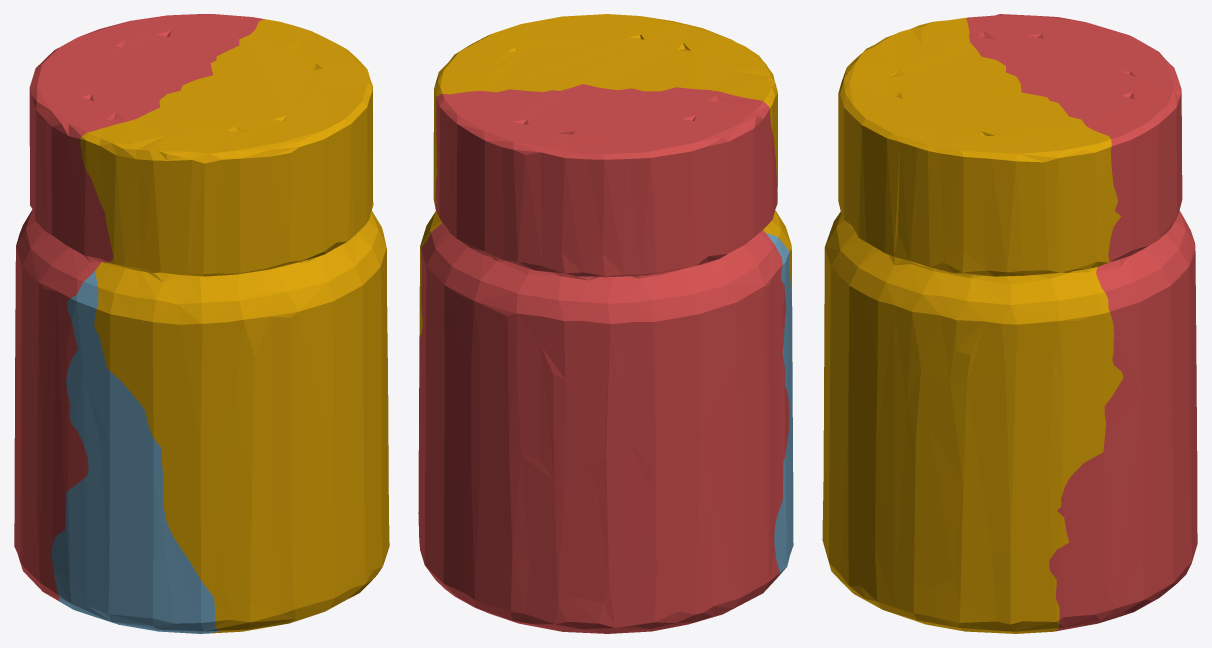
The model's file is mode_3_4pcs.glb.
3 renders of one model, left to right at view 1: azimuth 30°, elevation 25°; view 2: azimuth 150°, elevation 25°; view 3: azimuth 270°, elevation 25°, orthographic.
Visible parts, largest first — view 1: piece_0.obj, piece_1.obj, piece_2.obj; view 2: piece_1.obj, piece_0.obj, piece_2.obj; view 3: piece_0.obj, piece_1.obj.
Boxes of the visible parts, x1,y1,x2,y2 form: piece_0.obj: (80, 19, 389, 633); piece_1.obj: (14, 14, 263, 601); piece_2.obj: (51, 271, 218, 633); piece_1.obj: (418, 84, 789, 633); piece_0.obj: (419, 14, 791, 371); piece_2.obj: (766, 233, 793, 583); piece_0.obj: (822, 17, 1123, 633); piece_1.obj: (966, 14, 1197, 631).
Size of the model in its own units: 0.7073 by 1 by 0.707.
